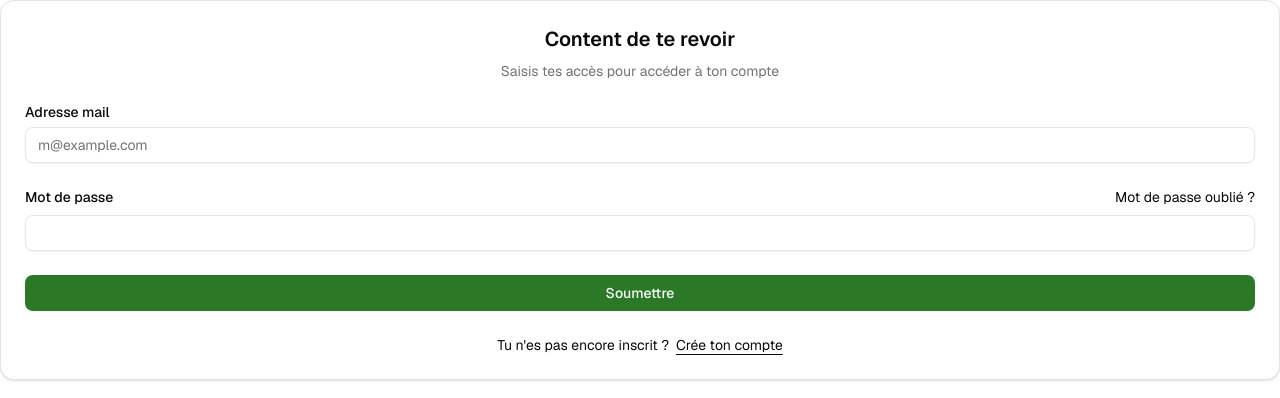
Test: LoginForm › shows loading state during form submission
Type "test@codeangel.pro" into the field with test id "email" at (640, 145), box [25,127,1255,163]
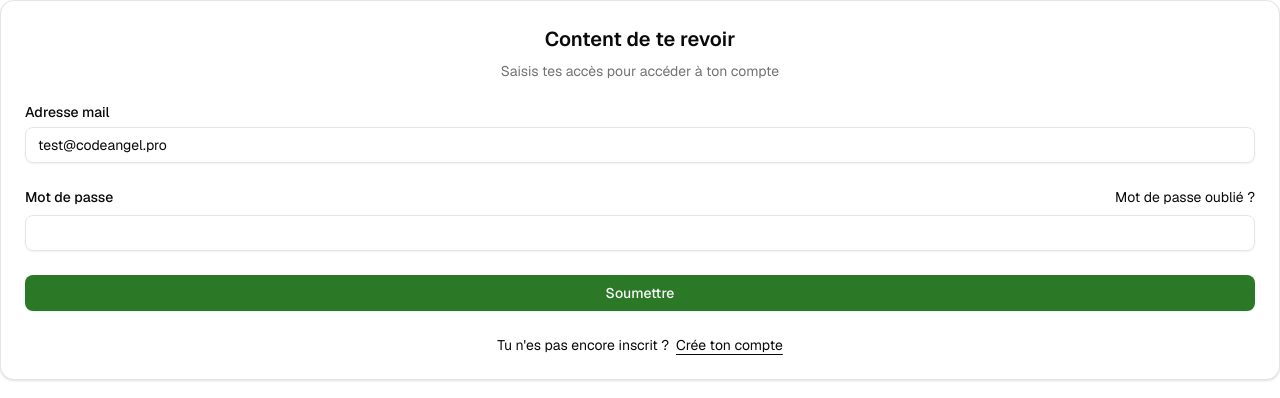
Type "password123" into the password field with test id "password" at (640, 233), box [25,215,1255,251]
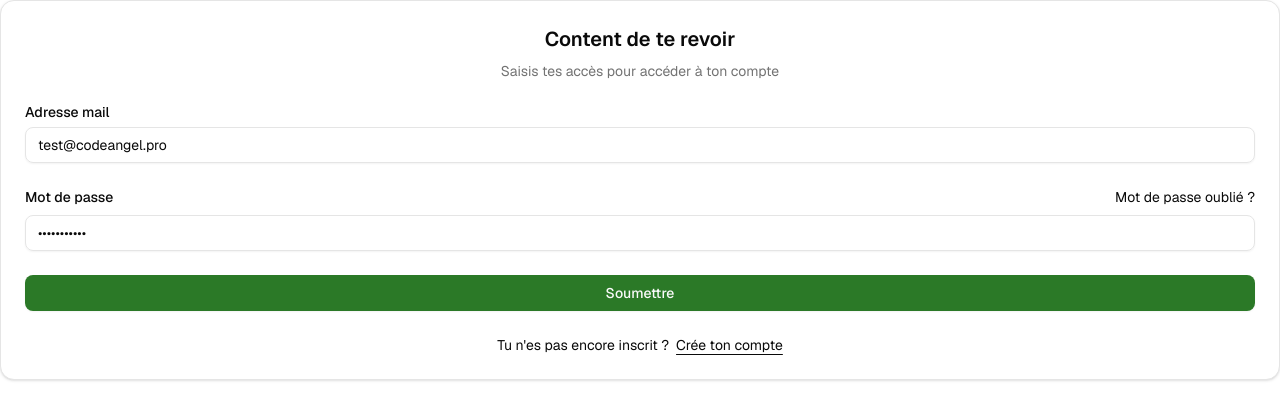
Click the button "Soumettre" at (640, 293), box [25,275,1255,311]
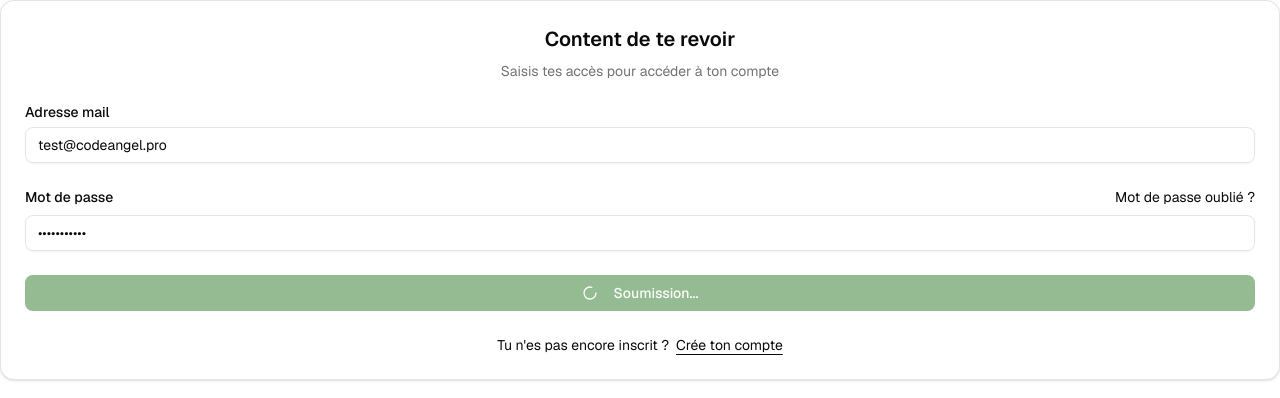
Expected: the button is disabled, [25,275,1255,311]
